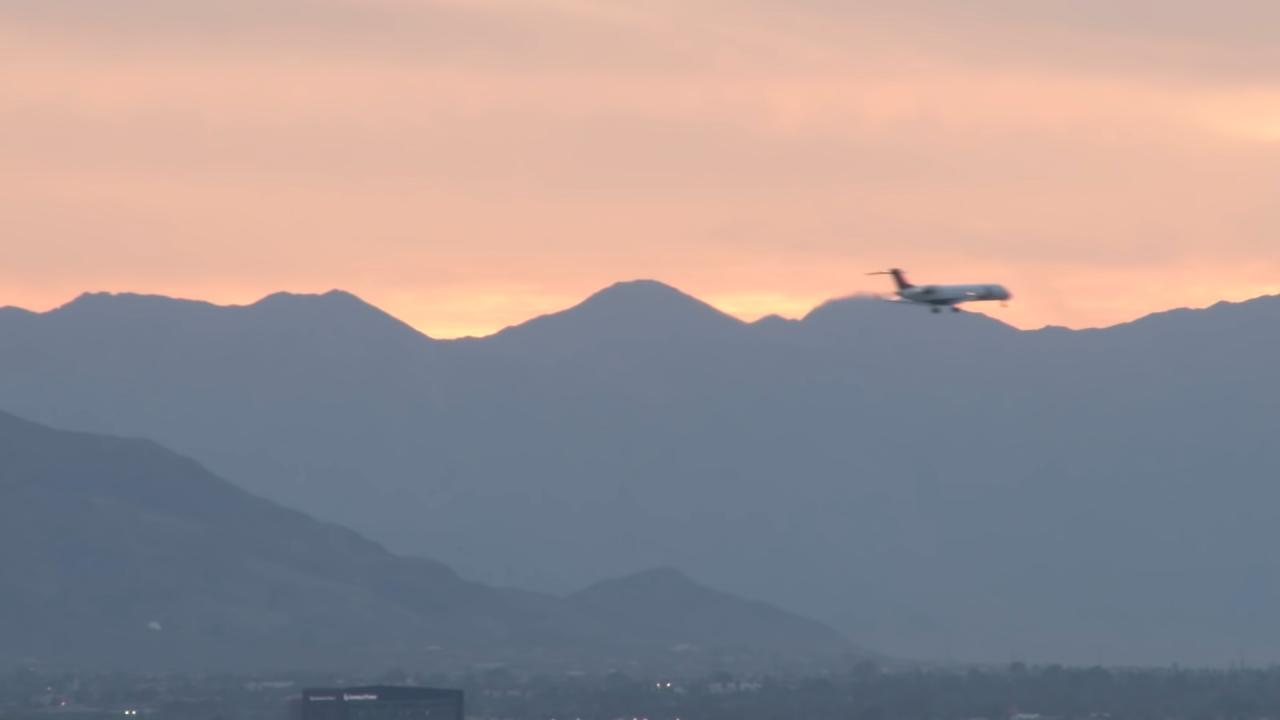Airplane: (861, 253, 1024, 328)
